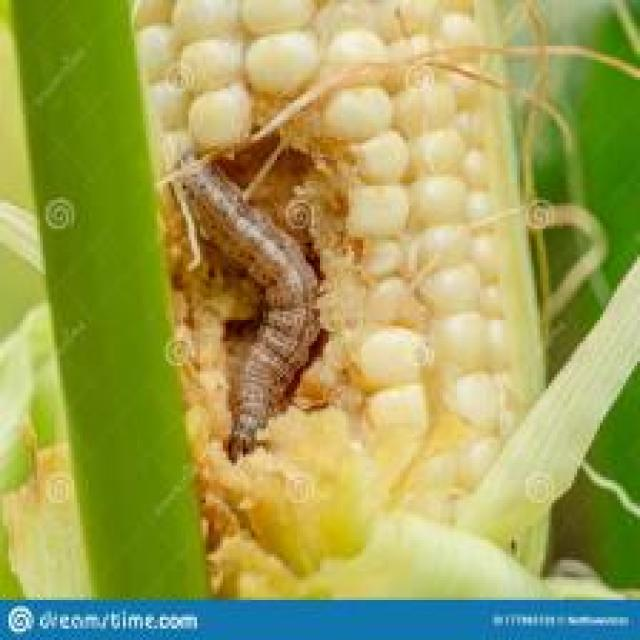Plaga: (150, 124, 341, 489)
